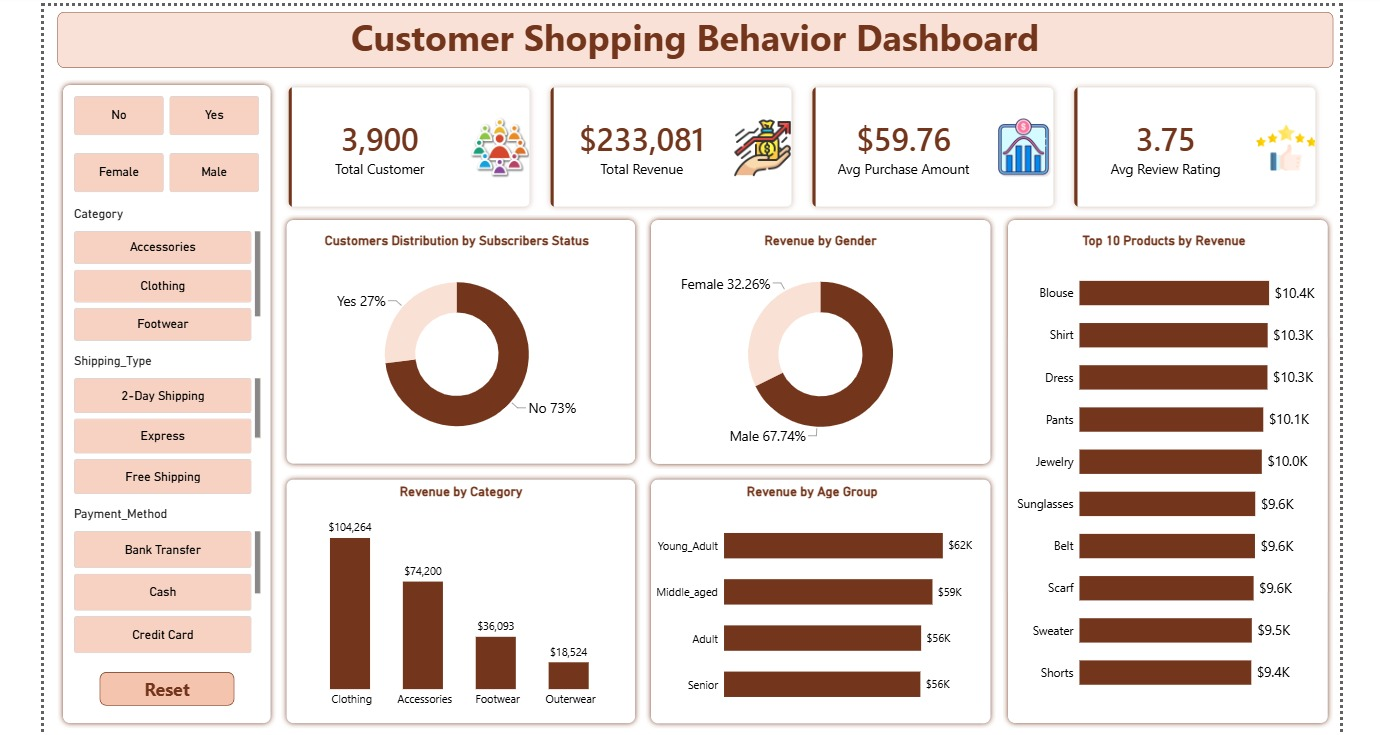

This screenshot's page, from the dashboard's own definition file:
{"tool":"powerbi","page":{"name":"Page 1","canvas":[1920,1080],"ordinal":0},"visuals":[{"type":"shape","box":[351.4,692.9,532.9,377.1],"z":0},{"type":"shape","box":[890.8,692.5,519.2,377.5],"z":1000},{"type":"shape","box":[1420,308.6,490,761.4],"z":2000},{"type":"shape","box":[890.8,308.3,519.2,377.5],"z":3000},{"type":"shape","box":[351.4,308.6,532.9,377.1],"z":4000},{"type":"cardVisual","fields":{"Data":["public customer.Total Customer","public customer.Total Revenue","public customer.Avg Purchase Amount","public customer.Avg Review Rating"]},"box":[351.4,108.6,1547.1,200],"z":5000},{"type":"textbox","box":[20,8.6,1890,82.9],"z":6000},{"type":"donutChart","title":"Customers Distribution by Subscribers Status","fields":{"Category":["public customer.subscription_status"],"Y":["public customer.Total Customer"]},"box":[364.3,322.9,494.3,351.4],"z":7000},{"type":"clusteredColumnChart","title":"Revenue by Category","fields":{"Category":["public customer.category"],"Y":["public customer.Total Revenue"]},"box":[364.3,692.9,507.1,365.7],"z":8000},{"type":"clusteredBarChart","title":"Revenue by Age Group","fields":{"Category":["public customer.age_group"],"Y":["public customer.Total Revenue"]},"box":[884.3,692.9,507.1,377.1],"z":9000},{"type":"donutChart","title":"Revenue by Gender","fields":{"Category":["public customer.gender"],"Y":["public customer.Total Revenue"]},"box":[891.4,322.9,518.6,351.4],"z":10000},{"type":"clusteredBarChart","title":"Top 10 Products by Revenue","fields":{"Category":["public customer.item_purchased"],"Y":["public customer.Total Revenue"]},"box":[1420,322.9,478.6,725.7],"z":11000},{"type":"shape","box":[20,108.5,323.8,961.5],"z":11001},{"type":"advancedSlicerVisual","fields":{"Values":["public customer.subscription_status"]},"box":[44.3,132.9,275.7,58.6],"z":11002},{"type":"advancedSlicerVisual","fields":{"Values":["public customer.gender"]},"box":[44.3,218.6,275.7,58.6],"z":11003},{"type":"advancedSlicerVisual","title":"Category","fields":{"Values":["public customer.category"]},"box":[44,298,276,201],"z":11004},{"type":"advancedSlicerVisual","title":"Shipping_Type","fields":{"Values":["public customer.shipping_type"]},"box":[44,515,276,208],"z":11005},{"type":"advancedSlicerVisual","title":"Payment_Method","fields":{"Values":["public customer.payment_method"]},"box":[44,743,276,218],"z":11006},{"type":"actionButton","box":[81.4,987.1,200,50],"z":11007}]}

Visuals, with their boxes on the page's 1920x1080 design canvas (x1, y1, x2, y2). These are canvas units, not pixel positions in the 1380x735 screenshot, which may show the page scaled, cropped or inside an application window:
shape: 351 693 884 1070
shape: 891 692 1410 1070
shape: 1420 309 1910 1070
shape: 891 308 1410 686
shape: 351 309 884 686
cardVisual - public customer.Total Customer x public customer.Total Revenue: 351 109 1898 309
textbox: 20 9 1910 92
"Customers Distribution by Subscribers Status" donutChart: 364 323 859 674
"Revenue by Category" clusteredColumnChart: 364 693 871 1059
"Revenue by Age Group" clusteredBarChart: 884 693 1391 1070
"Revenue by Gender" donutChart: 891 323 1410 674
"Top 10 Products by Revenue" clusteredBarChart: 1420 323 1899 1049
shape: 20 108 344 1070
advancedSlicerVisual - public customer.subscription_status: 44 133 320 192
advancedSlicerVisual - public customer.gender: 44 219 320 277
"Category" advancedSlicerVisual: 44 298 320 499
"Shipping_Type" advancedSlicerVisual: 44 515 320 723
"Payment_Method" advancedSlicerVisual: 44 743 320 961
actionButton: 81 987 281 1037
